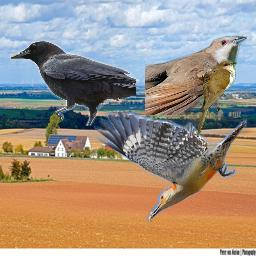Crow: (10, 41, 136, 126)
Cuckoo: (145, 36, 247, 115), (196, 60, 237, 136)
Woodpecker: (94, 109, 247, 223)
